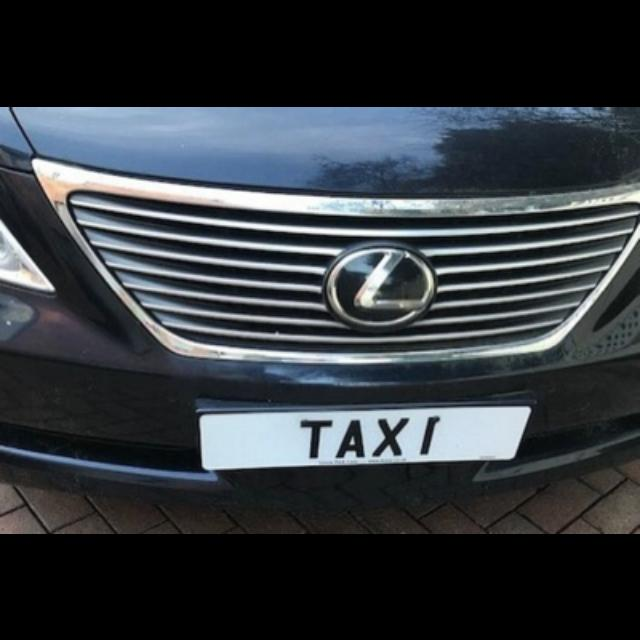carPlate: (198, 407, 531, 470)
